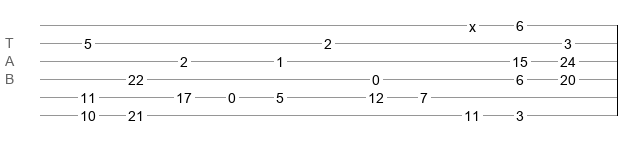0: (228, 90, 236, 100), (372, 72, 380, 82)
1: (276, 54, 284, 64)
10: (80, 108, 96, 118)
11: (80, 90, 96, 100), (464, 108, 480, 118)
12: (368, 90, 384, 100)
15: (512, 54, 528, 64)
17: (176, 90, 192, 100)
2: (180, 54, 188, 64), (324, 36, 332, 46)
20: (560, 72, 576, 82)
21: (128, 108, 144, 118)
22: (128, 72, 144, 82)
24: (560, 54, 576, 64)
3: (516, 108, 524, 118), (564, 36, 572, 46)
5: (84, 36, 92, 46), (276, 90, 284, 100)
6: (516, 18, 524, 28), (516, 72, 524, 82)
7: (420, 90, 428, 100)
x: (469, 19, 476, 27)
